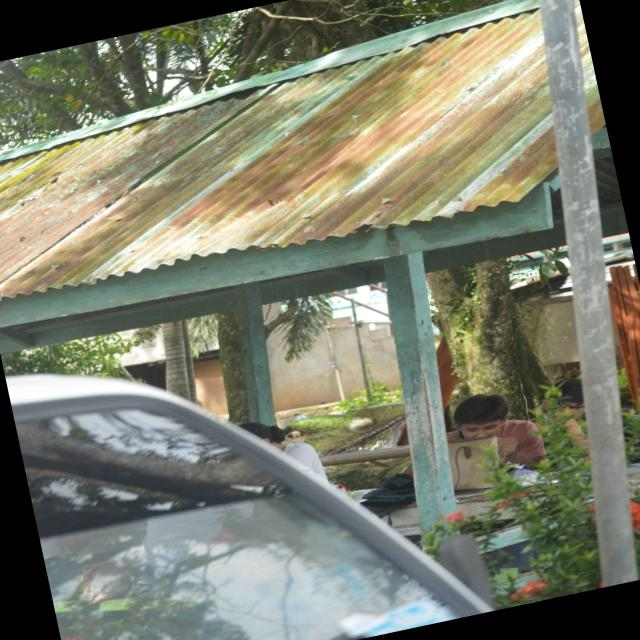person: (446, 395, 544, 468), (240, 423, 327, 482)
